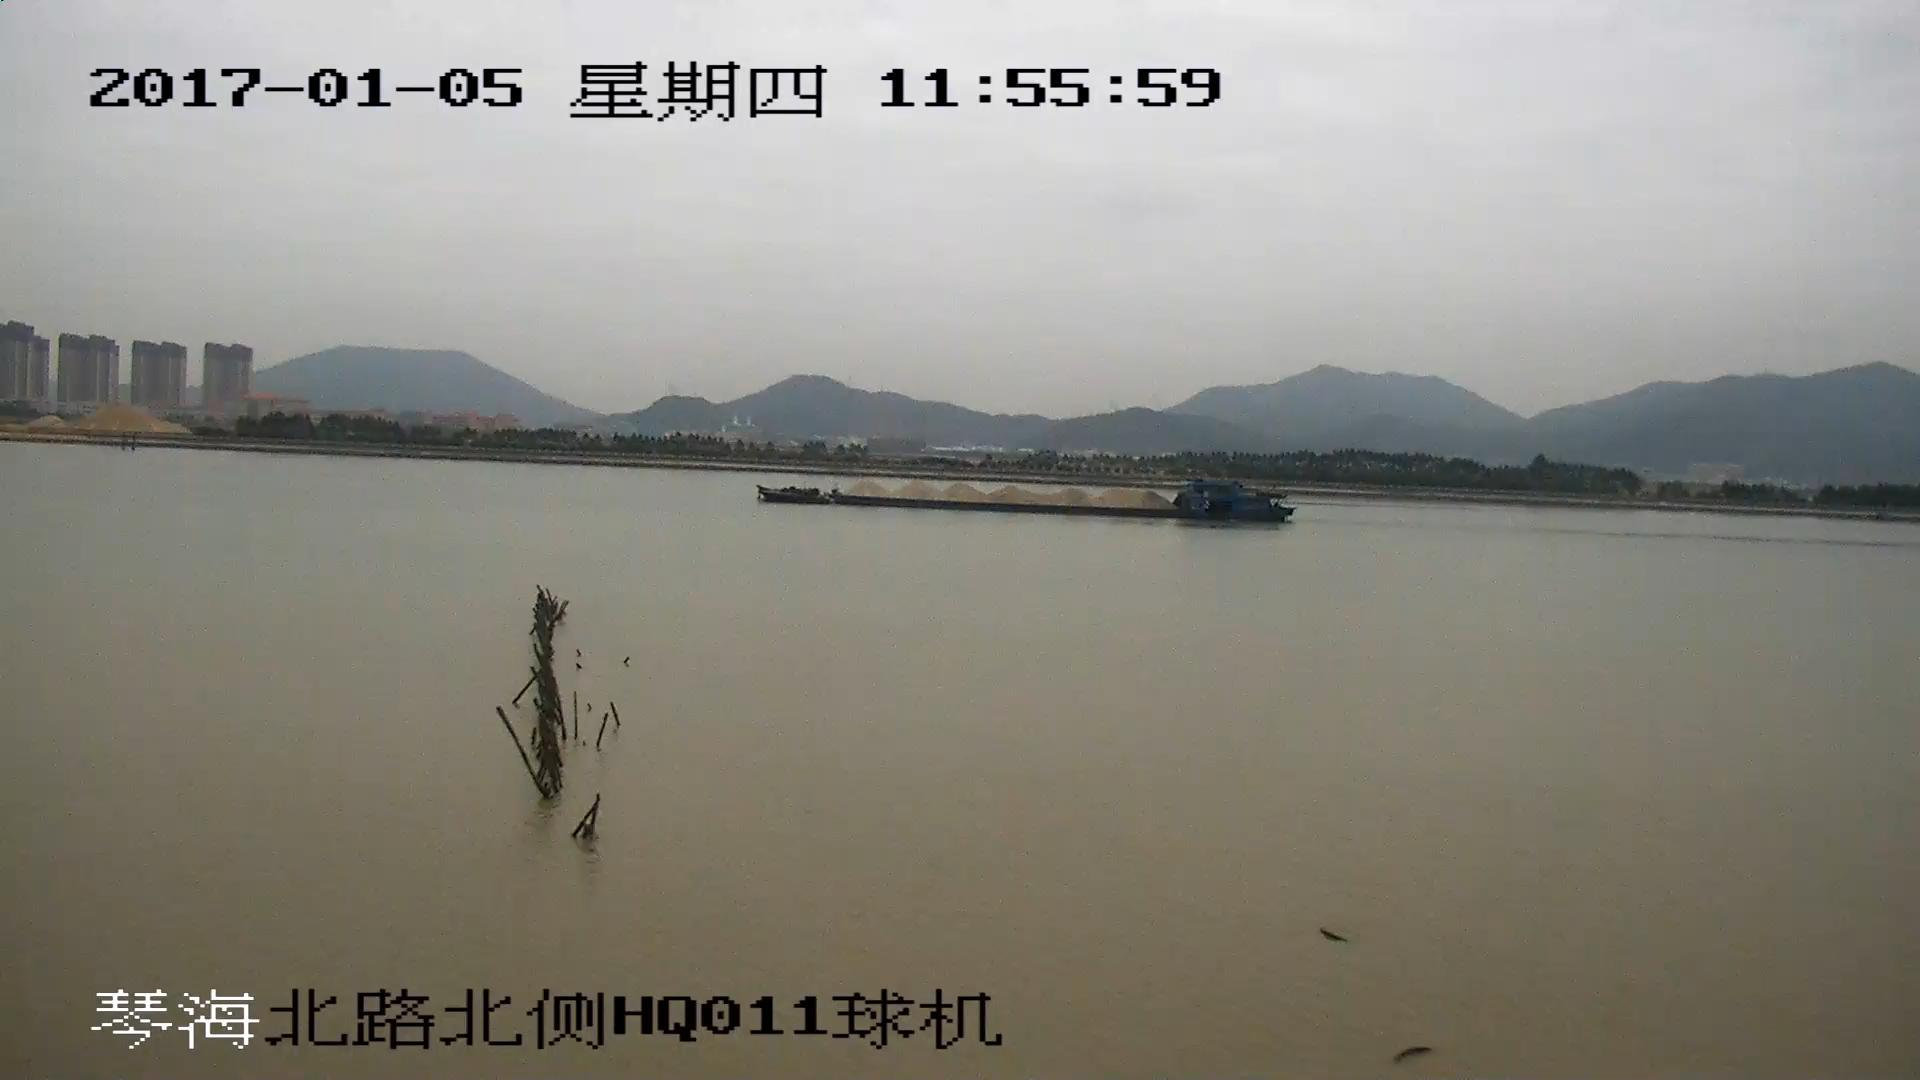Ship: (760, 481, 1294, 527)
